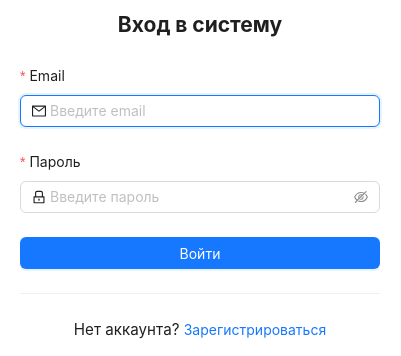
Test: LoginForm › Валидация формы › должен показывать ошибку при неверном формате email
Type "invalid-email" into the field with test id "email-input" at (209, 111), box [50,100,368,122]
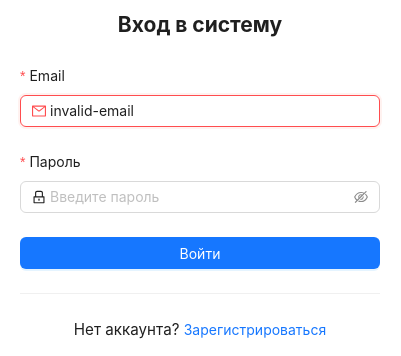
Click the button "Войти" at (200, 253), box [20,237,380,269]
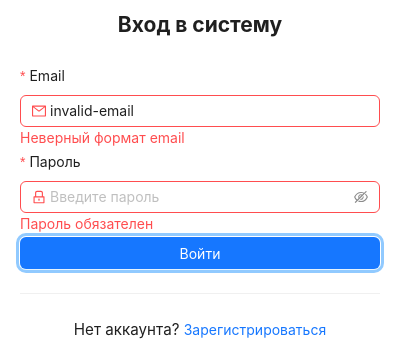
Now the text "Неверный формат email" is shown, box [20,129,185,146]
